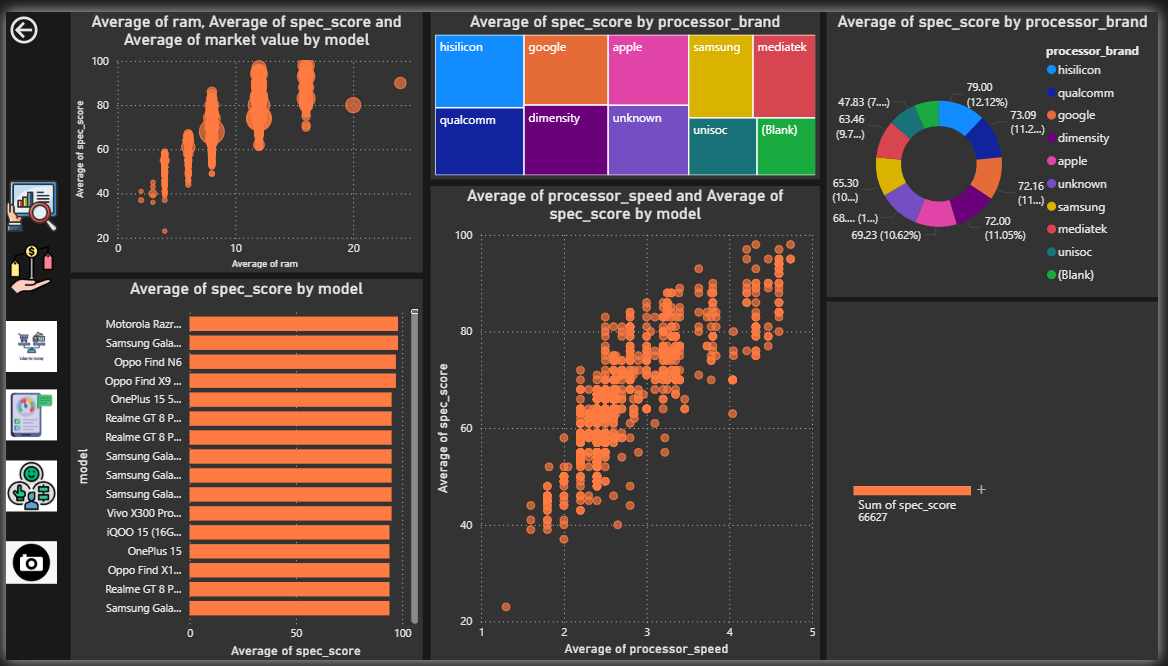

What the dashboard file says about the page in this screenshot:
{"tool":"powerbi","page":{"name":"Performance & Hardware","canvas":[1280,720],"ordinal":3},"visuals":[{"type":"scatterChart","fields":{"X":["Avg(smartprix_smartphones_april_202.ram)"],"Y":["Avg(smartprix_smartphones_april_202.spec_score)"],"Category":["Model.model"],"Size":["Avg(smartprix_smartphones_april_202.market value)"]},"box":[71.6,0,391.3,289.5],"z":0},{"type":"treemap","fields":{"Values":["Avg(smartprix_smartphones_april_202.spec_score)"],"Group":["Processor Brand.processor_brand"]},"box":[472.4,0,432.6,186.1],"z":1000},{"type":"donutChart","fields":{"Category":["Processor Brand.processor_brand"],"Y":["Avg(smartprix_smartphones_april_202.spec_score)"]},"box":[911.4,0,369,316.5],"z":2000},{"type":"scatterChart","fields":{"X":["Avg(smartprix_smartphones_april_202.processor_speed)"],"Y":["Avg(smartprix_smartphones_april_202.spec_score)"],"Category":["Model.model"]},"box":[472.4,193.5,432.6,526.5],"z":3000},{"type":"barChart","fields":{"Category":["Model.model"],"Y":["Avg(smartprix_smartphones_april_202.spec_score)"]},"box":[71.6,295.9,391.3,424.7],"z":4000},{"type":"decompositionTreeVisual","fields":{"Analyze":["Sum(smartprix_smartphones_april_202.spec_score)"],"ExplainBy":["Processor Brand.processor_brand","smartprix_smartphones_april_202.ram"]},"box":[911.4,321.3,369,399.2],"z":5000},{"type":"actionButton","box":[0,0,100,40],"z":6000},{"type":"image","box":[0,181.3,57.3,68.4],"z":15000},{"type":"image","box":[0,310,56.7,123.3],"z":16000},{"type":"image","box":[0,241.7,56.7,88.3],"z":17000},{"type":"image","box":[0,410,56.7,75],"z":18000},{"type":"image","box":[0,485,56.7,83.3],"z":19000},{"type":"image","box":[0,556.7,56.7,110],"z":20000},{"type":"pageNavigator","box":[0,173.3,56.7,473.3],"z":20500}]}

Visuals, with their boxes on the page's 1280x720 design canvas (x1, y1, x2, y2). These are canvas units, not pixel positions in the 1168x666 screenshot, which may show the page scaled, cropped or inside an application window:
scatterChart - Avg(smartprix_smartphones_april_202.ram) x Avg(smartprix_smartphones_april_202.spec_score): <bbox>72, 0, 463, 290</bbox>
treemap - Avg(smartprix_smartphones_april_202.spec_score) x Processor Brand.processor_brand: <bbox>472, 0, 905, 186</bbox>
donutChart - Processor Brand.processor_brand x Avg(smartprix_smartphones_april_202.spec_score): <bbox>911, 0, 1280, 316</bbox>
scatterChart - Avg(smartprix_smartphones_april_202.processor_speed) x Avg(smartprix_smartphones_april_202.spec_score): <bbox>472, 194, 905, 720</bbox>
barChart - Model.model x Avg(smartprix_smartphones_april_202.spec_score): <bbox>72, 296, 463, 721</bbox>
decompositionTreeVisual - Sum(smartprix_smartphones_april_202.spec_score) x Processor Brand.processor_brand: <bbox>911, 321, 1280, 720</bbox>
actionButton: <bbox>0, 0, 100, 40</bbox>
image: <bbox>0, 181, 57, 250</bbox>
image: <bbox>0, 310, 57, 433</bbox>
image: <bbox>0, 242, 57, 330</bbox>
image: <bbox>0, 410, 57, 485</bbox>
image: <bbox>0, 485, 57, 568</bbox>
image: <bbox>0, 557, 57, 667</bbox>
pageNavigator: <bbox>0, 173, 57, 647</bbox>
